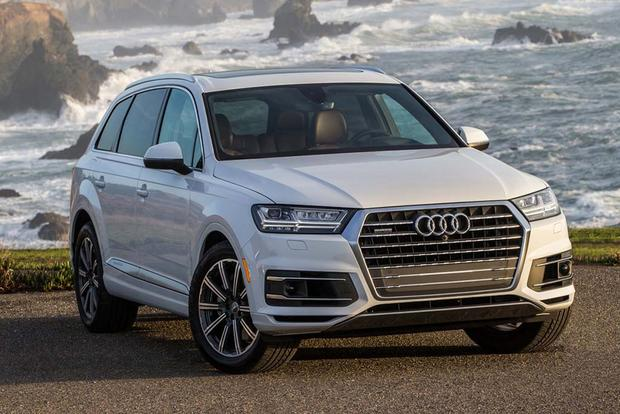audi: (411, 212, 476, 241)
